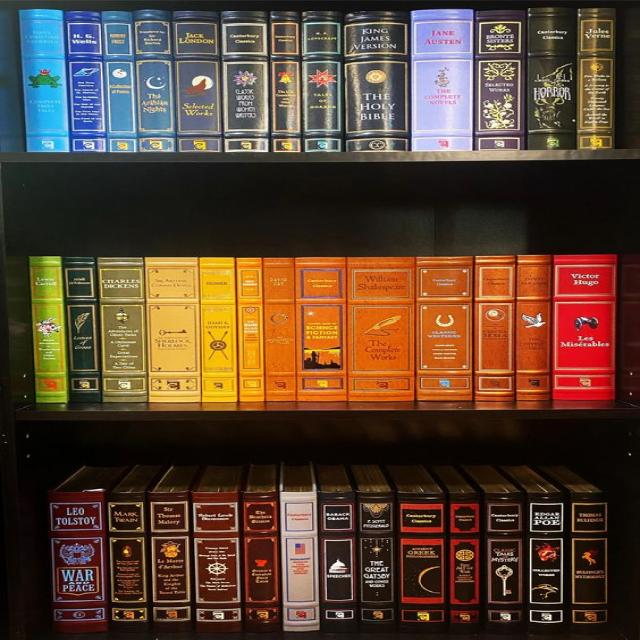book: (347, 258, 414, 402), (554, 254, 616, 400), (411, 10, 472, 152), (345, 15, 408, 150), (146, 258, 201, 402), (417, 258, 472, 400), (97, 258, 148, 403), (52, 493, 104, 631), (296, 258, 346, 401), (19, 9, 69, 152), (526, 7, 576, 148), (173, 12, 223, 152), (476, 10, 524, 150), (193, 493, 240, 633), (399, 492, 446, 631), (223, 11, 268, 152), (64, 12, 106, 151), (134, 10, 175, 152), (151, 492, 191, 633), (303, 12, 343, 152), (486, 492, 526, 632), (108, 493, 148, 632), (570, 492, 610, 630), (475, 257, 513, 401), (30, 256, 66, 402), (64, 257, 100, 402), (100, 11, 137, 152), (242, 492, 279, 633), (200, 259, 236, 402), (358, 491, 394, 631), (578, 9, 614, 148), (282, 492, 318, 631), (527, 493, 563, 632), (320, 493, 354, 631), (518, 256, 550, 401), (264, 259, 295, 401), (270, 11, 301, 152), (450, 493, 479, 632), (237, 259, 263, 401)
